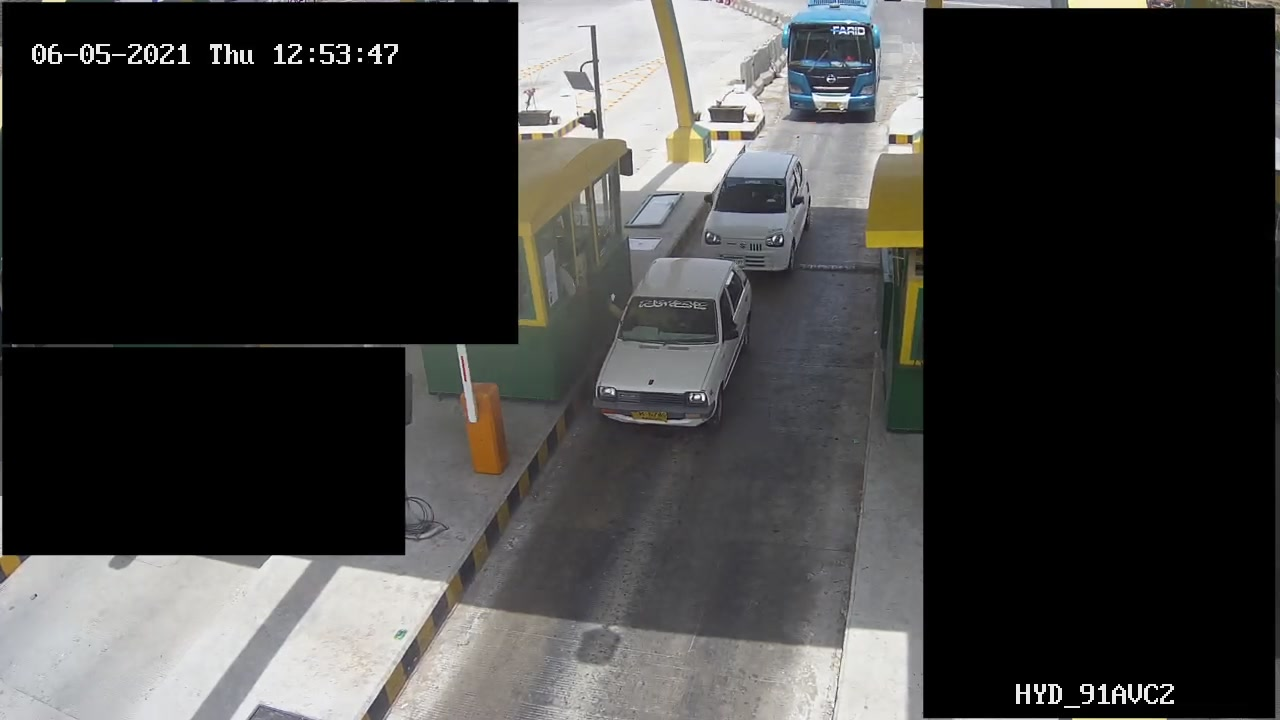F1: (591, 260, 758, 438), (692, 145, 821, 278)
